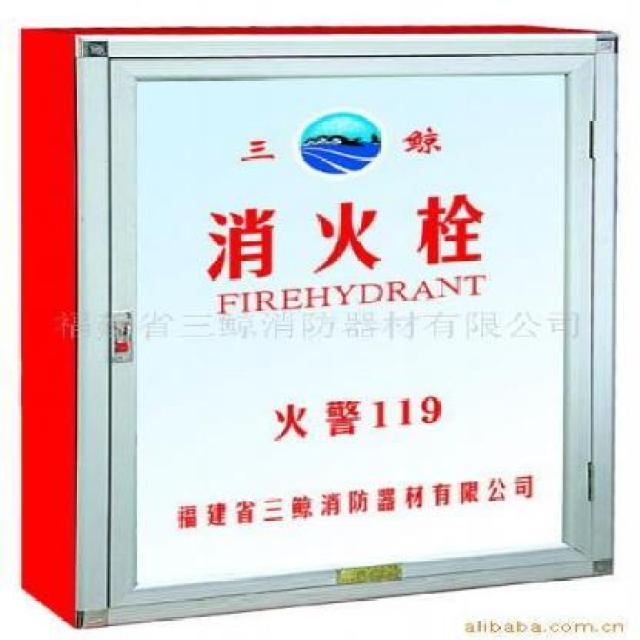firehydrant: (14, 21, 627, 634)
